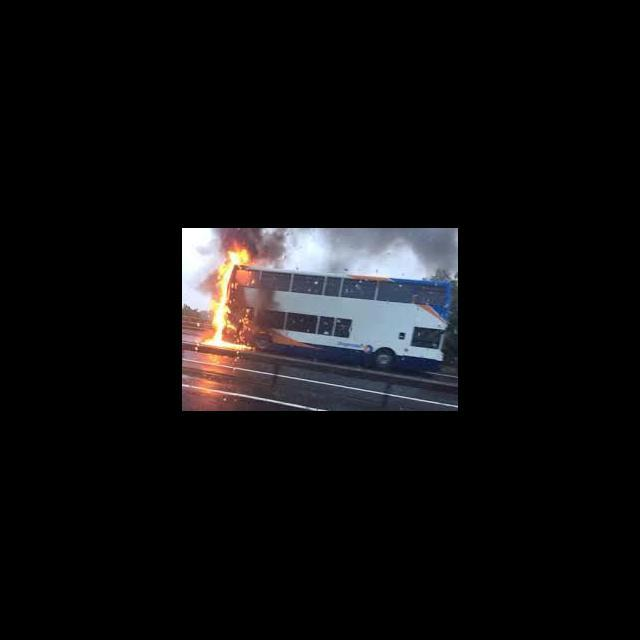Fire: (200, 249, 254, 353)
Smoke: (319, 228, 457, 270), (212, 229, 320, 247)
